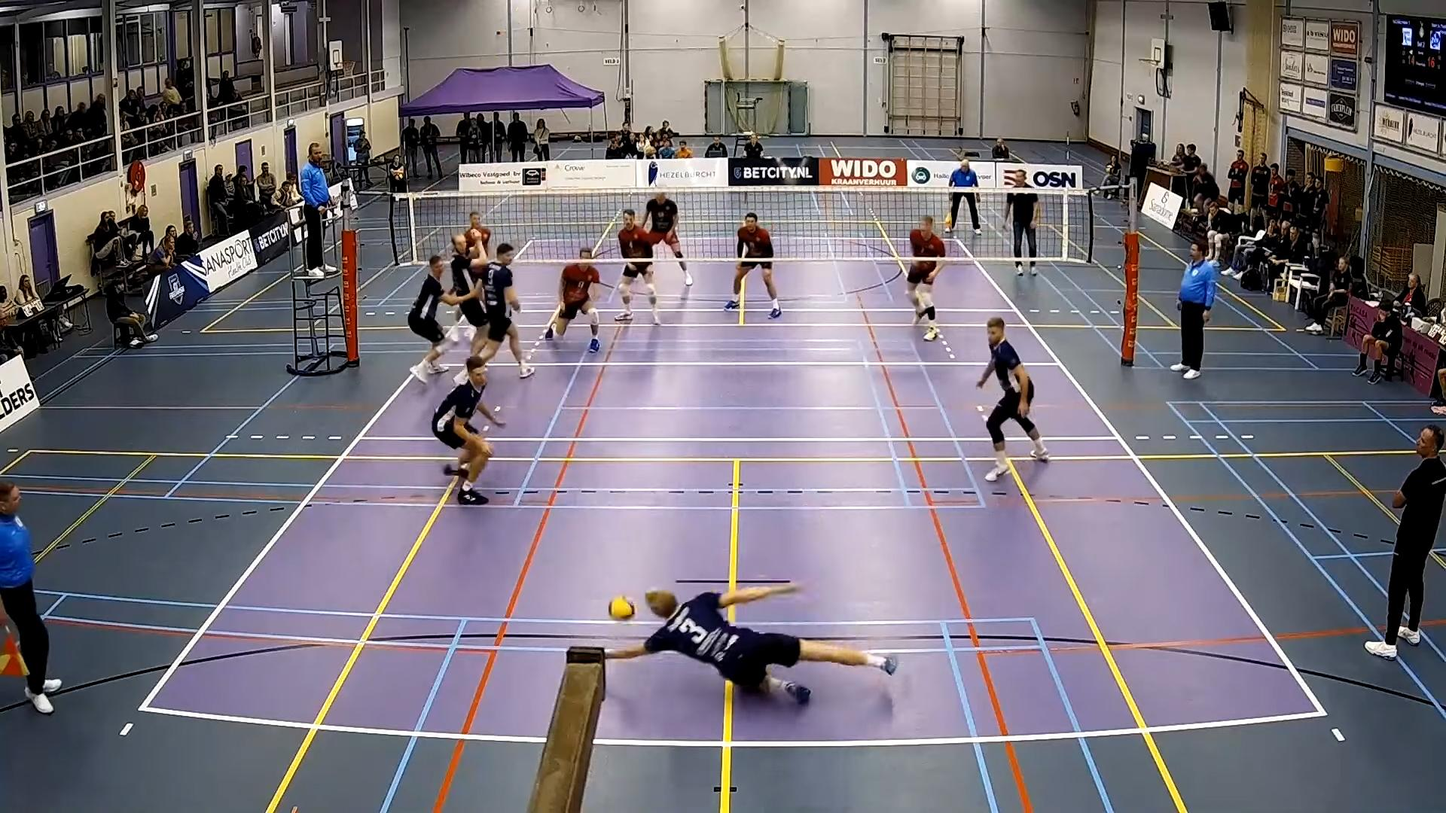Dig: (573, 576, 913, 714)
Player: (977, 316, 1048, 481), (432, 358, 504, 504), (471, 245, 534, 378), (407, 255, 460, 382), (725, 212, 781, 317), (544, 248, 600, 353), (615, 209, 664, 324), (907, 216, 945, 340), (643, 189, 692, 285), (449, 233, 486, 354), (464, 211, 490, 258)
ball: (608, 591, 633, 622)
